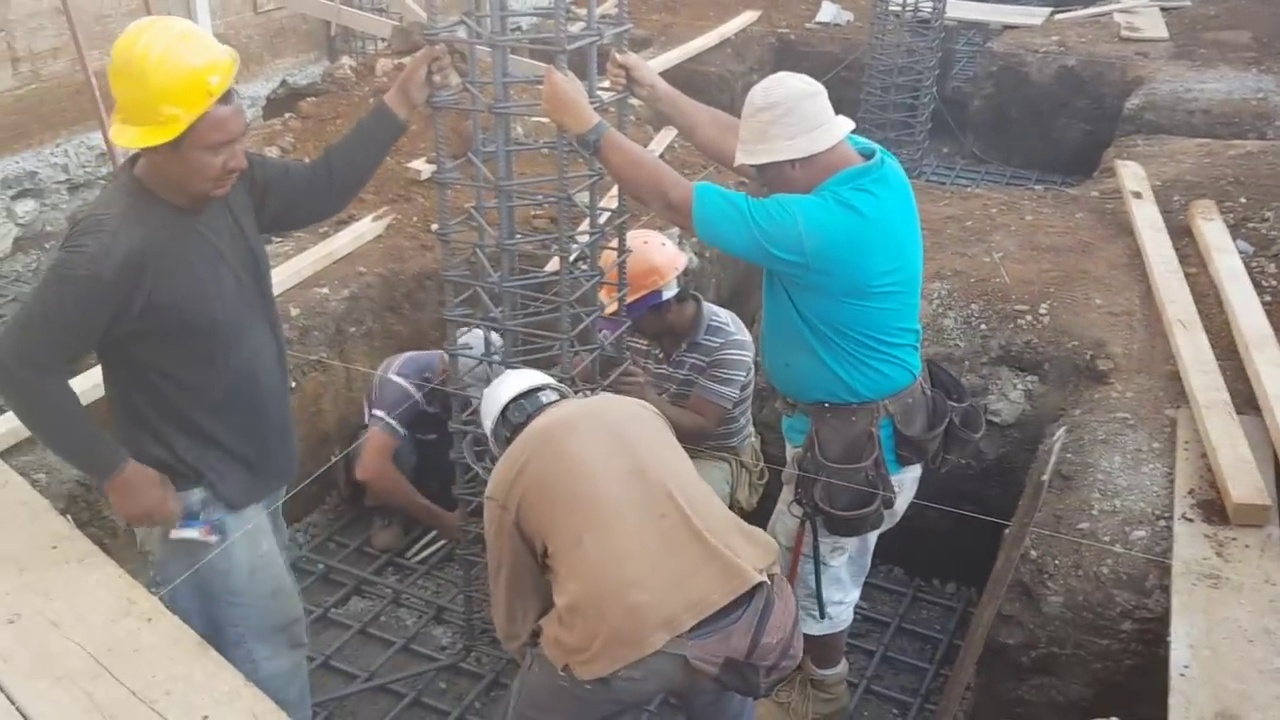helmet: (105, 22, 242, 150), (585, 225, 692, 318), (479, 365, 566, 463)
helmet-off: (734, 67, 867, 199), (440, 326, 506, 404)
helmet-on: (107, 12, 243, 210), (585, 228, 701, 347), (475, 357, 583, 466)
person: (543, 46, 943, 719), (20, 0, 405, 642), (475, 347, 793, 718), (576, 221, 758, 510), (359, 314, 502, 572)
